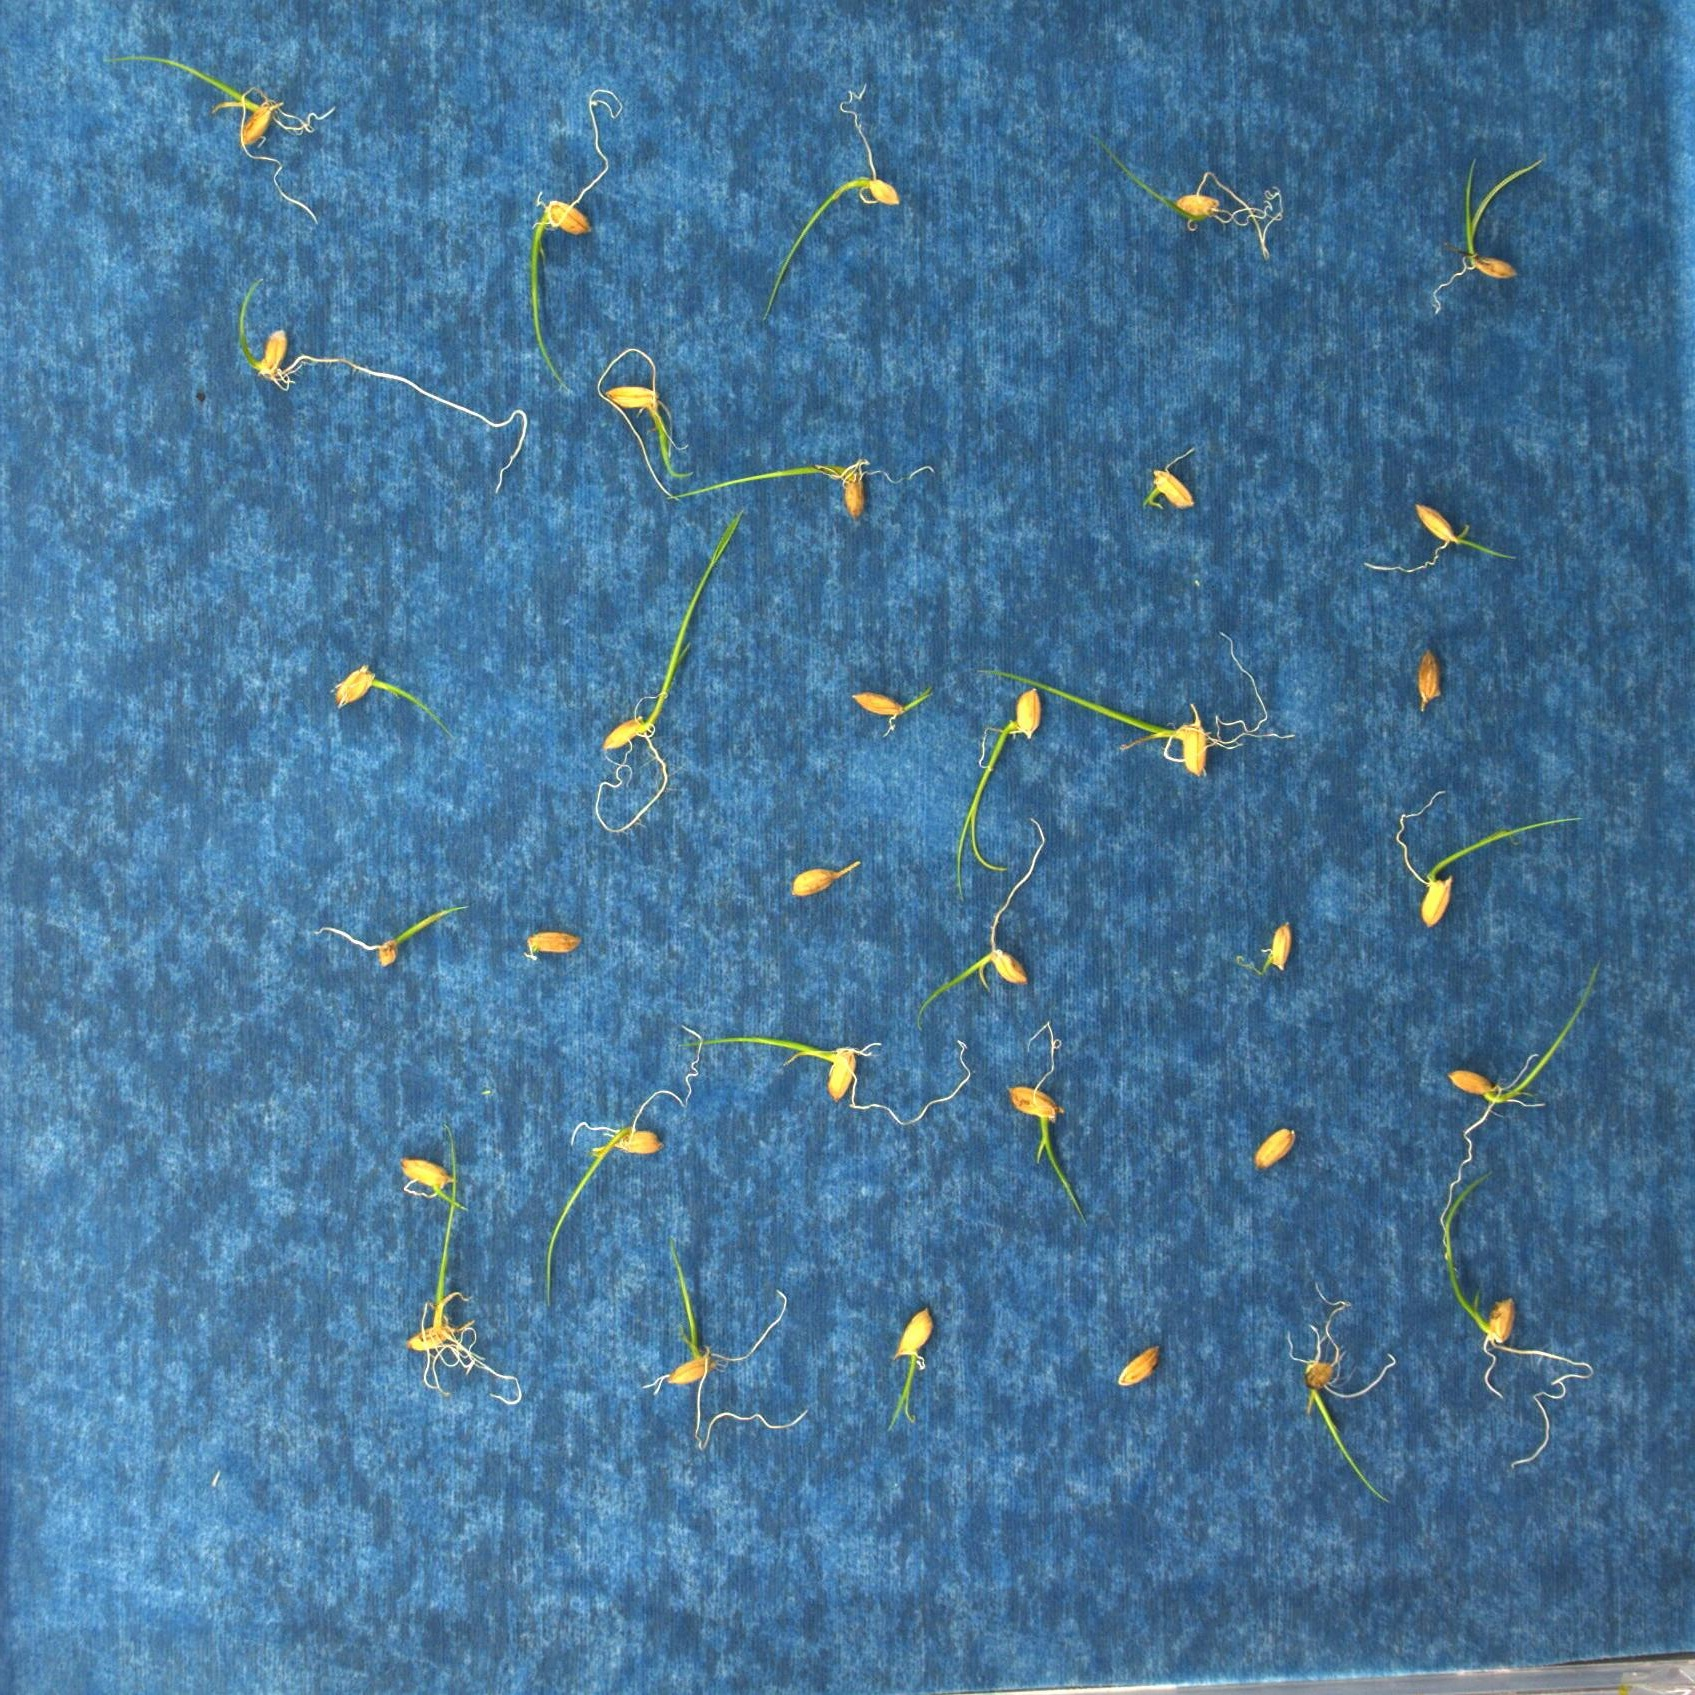not sprout: (790, 858, 858, 899), (1116, 1343, 1166, 1385), (1256, 1127, 1295, 1170), (525, 931, 584, 959), (1419, 646, 1444, 711)
sprout: (237, 276, 528, 494), (594, 504, 747, 834), (1444, 951, 1605, 1260), (978, 633, 1299, 779), (542, 1024, 702, 1310), (1445, 1170, 1594, 1470), (106, 54, 337, 225), (641, 1242, 813, 1453), (407, 1122, 528, 1405), (765, 82, 900, 320), (917, 815, 1048, 1032), (531, 88, 622, 397), (678, 1034, 972, 1125), (1395, 789, 1583, 930), (1288, 1284, 1399, 1503), (1097, 138, 1287, 259), (1433, 155, 1544, 315), (666, 456, 938, 522), (1006, 1021, 1091, 1228), (958, 688, 1043, 893), (602, 348, 695, 501), (1360, 500, 1520, 574), (314, 903, 473, 967), (335, 661, 453, 737), (885, 1305, 934, 1434), (851, 686, 934, 739), (397, 1156, 473, 1214), (1139, 445, 1200, 511), (1239, 920, 1295, 979)
